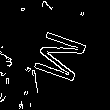M_E: (27, 25, 93, 86)
